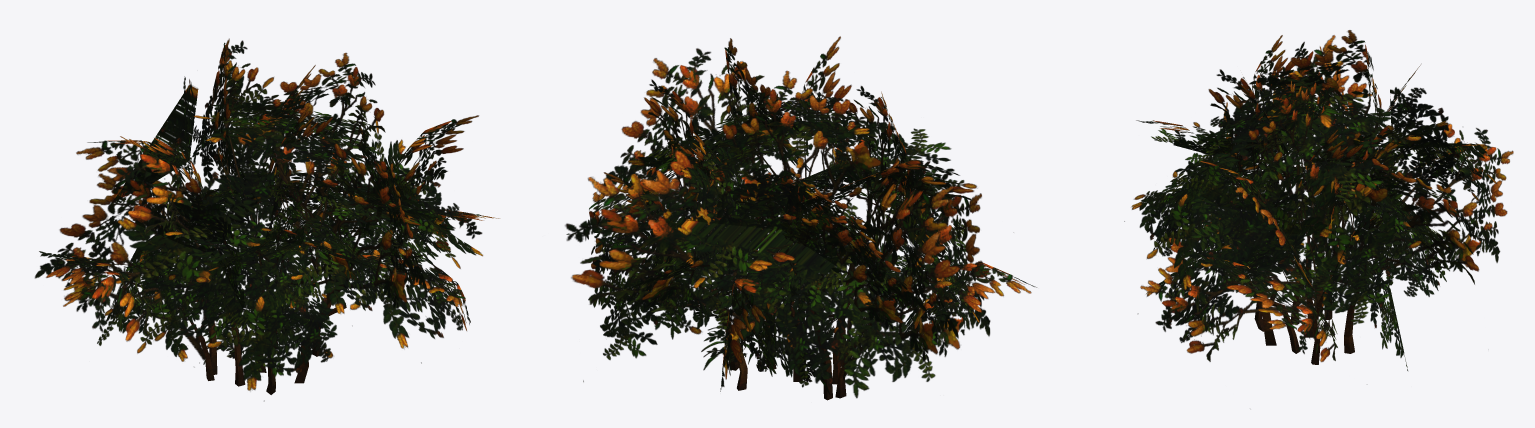
File: Plant_J.glb
3 views of the same model, side by side, from view 1: azimuth 30°, elevation 25°; view 2: azimuth 150°, elevation 25°; view 3: azimuth 270°, elevation 25° (orthographic). The views are drawn at different scales.
Visible parts, largest first — view 1: Plant_J_instance.001; view 2: Plant_J_instance.001; view 3: Plant_J_instance.001.
Boxes of the visible parts, x1,y1,x2,y2 form: Plant_J_instance.001: (35, 38, 499, 401); Plant_J_instance.001: (565, 36, 1036, 400); Plant_J_instance.001: (1124, 30, 1513, 370).
Bounding box in the file's own units: 1.3 × 0.9084 × 1.13.
1 material, 1 textured.
